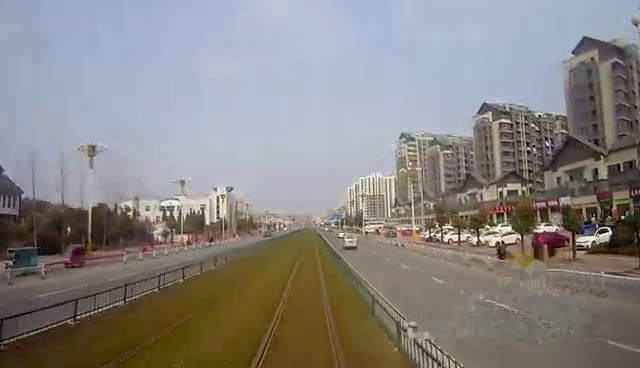car: (55, 245, 92, 270), (341, 231, 358, 248)
